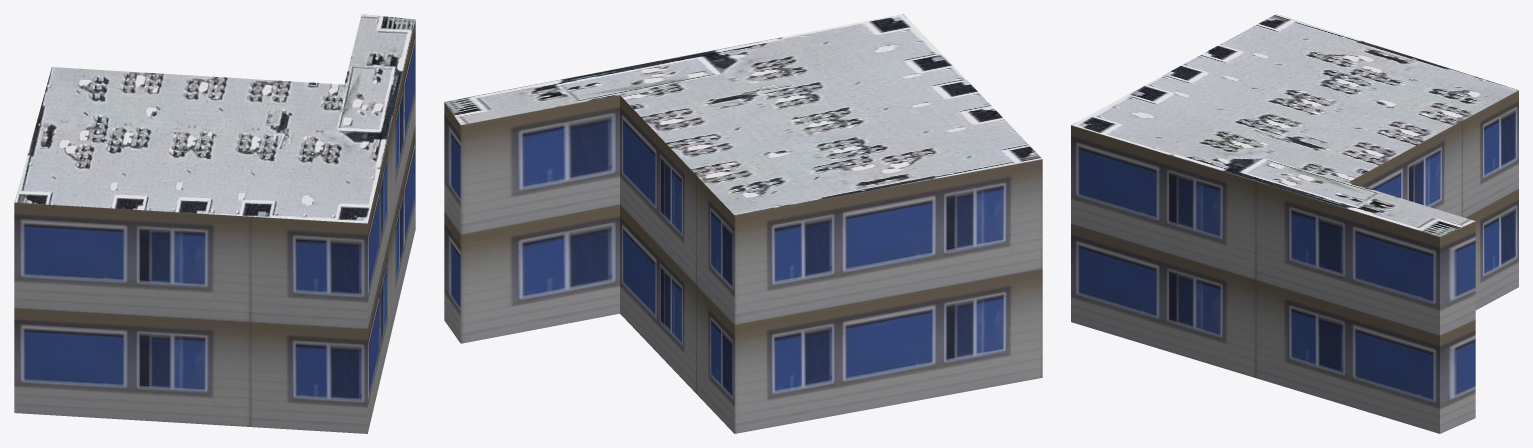
The model's file is ResTex__1018.fbx.
The picture shows the model from 3 angles, left to right: view 1: azimuth 30°, elevation 25°; view 2: azimuth 150°, elevation 25°; view 3: azimuth 270°, elevation 25°; orthographic projection. The views are drawn at different scales.
Parts seen in each view (by area): view 1: CityEngineMaterial_23_m, CityEngineMaterial_4_m; view 2: CityEngineMaterial_23_m, CityEngineMaterial_4_m; view 3: CityEngineMaterial_23_m, CityEngineMaterial_4_m.
Part boxes in pixels (x1=…): CityEngineMaterial_23_m: x1=14, y1=20, x2=415, y2=433; CityEngineMaterial_4_m: x1=14, y1=14, x2=415, y2=223; CityEngineMaterial_23_m: x1=444, y1=95, x2=1042, y2=433; CityEngineMaterial_4_m: x1=444, y1=14, x2=1042, y2=215; CityEngineMaterial_23_m: x1=1071, y1=90, x2=1518, y2=433; CityEngineMaterial_4_m: x1=1071, y1=14, x2=1518, y2=236.
Size of the model in its own units: 14.58 by 6 by 12.37.
Materials: 2 (2 with a texture image).
